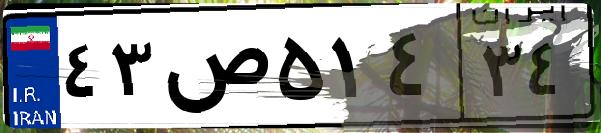1: (330, 28, 385, 110)
3: (475, 38, 525, 113), (110, 28, 158, 98)
4: (385, 28, 445, 110), (57, 26, 110, 100), (525, 38, 570, 115)
5: (270, 28, 330, 110)
ص: (158, 20, 270, 120)
